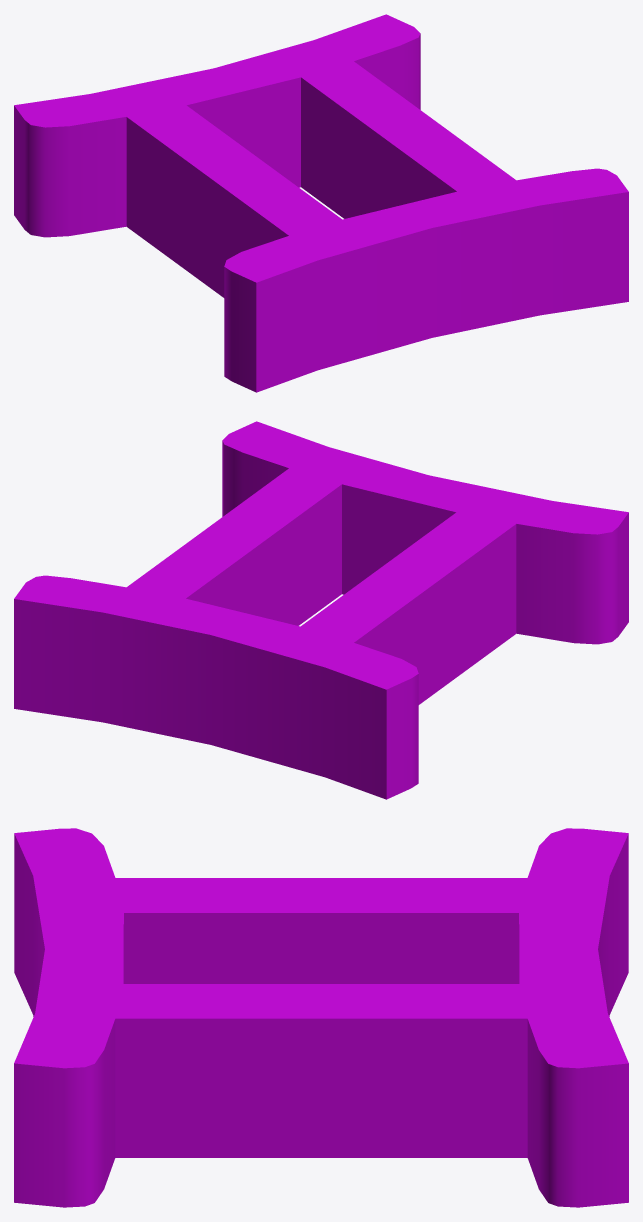
File: gemini.fbx
The picture shows the model from 3 angles, top to bottom: view 1: azimuth 30°, elevation 25°; view 2: azimuth 150°, elevation 25°; view 3: azimuth 270°, elevation 25°; orthographic projection. The views are drawn at different scales.
Parts seen in each view (by area): view 1: 3.GEMINI; view 2: 3.GEMINI; view 3: 3.GEMINI.
Part boxes in pixels (left/top/right/bottom): 3.GEMINI: left=14, top=14, right=628, bottom=392; 3.GEMINI: left=14, top=421, right=628, bottom=799; 3.GEMINI: left=14, top=828, right=628, bottom=1207.
Bounding box in the file's own units: 132 × 35.69 × 143.
